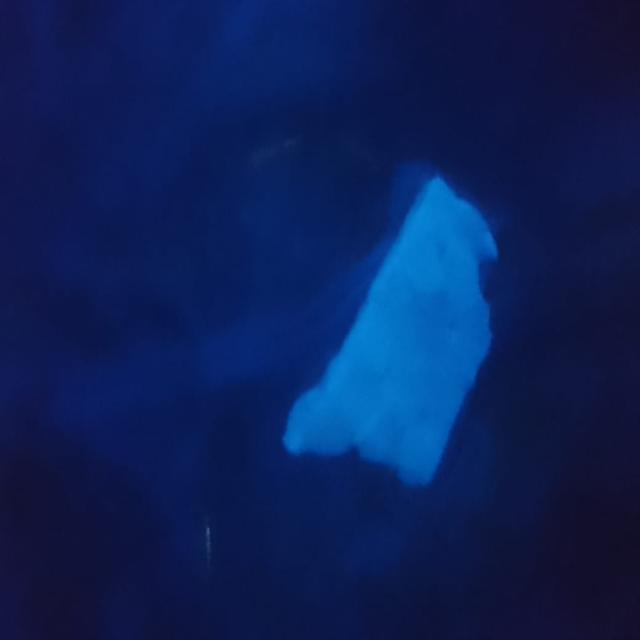litter: (281, 140, 504, 492)
